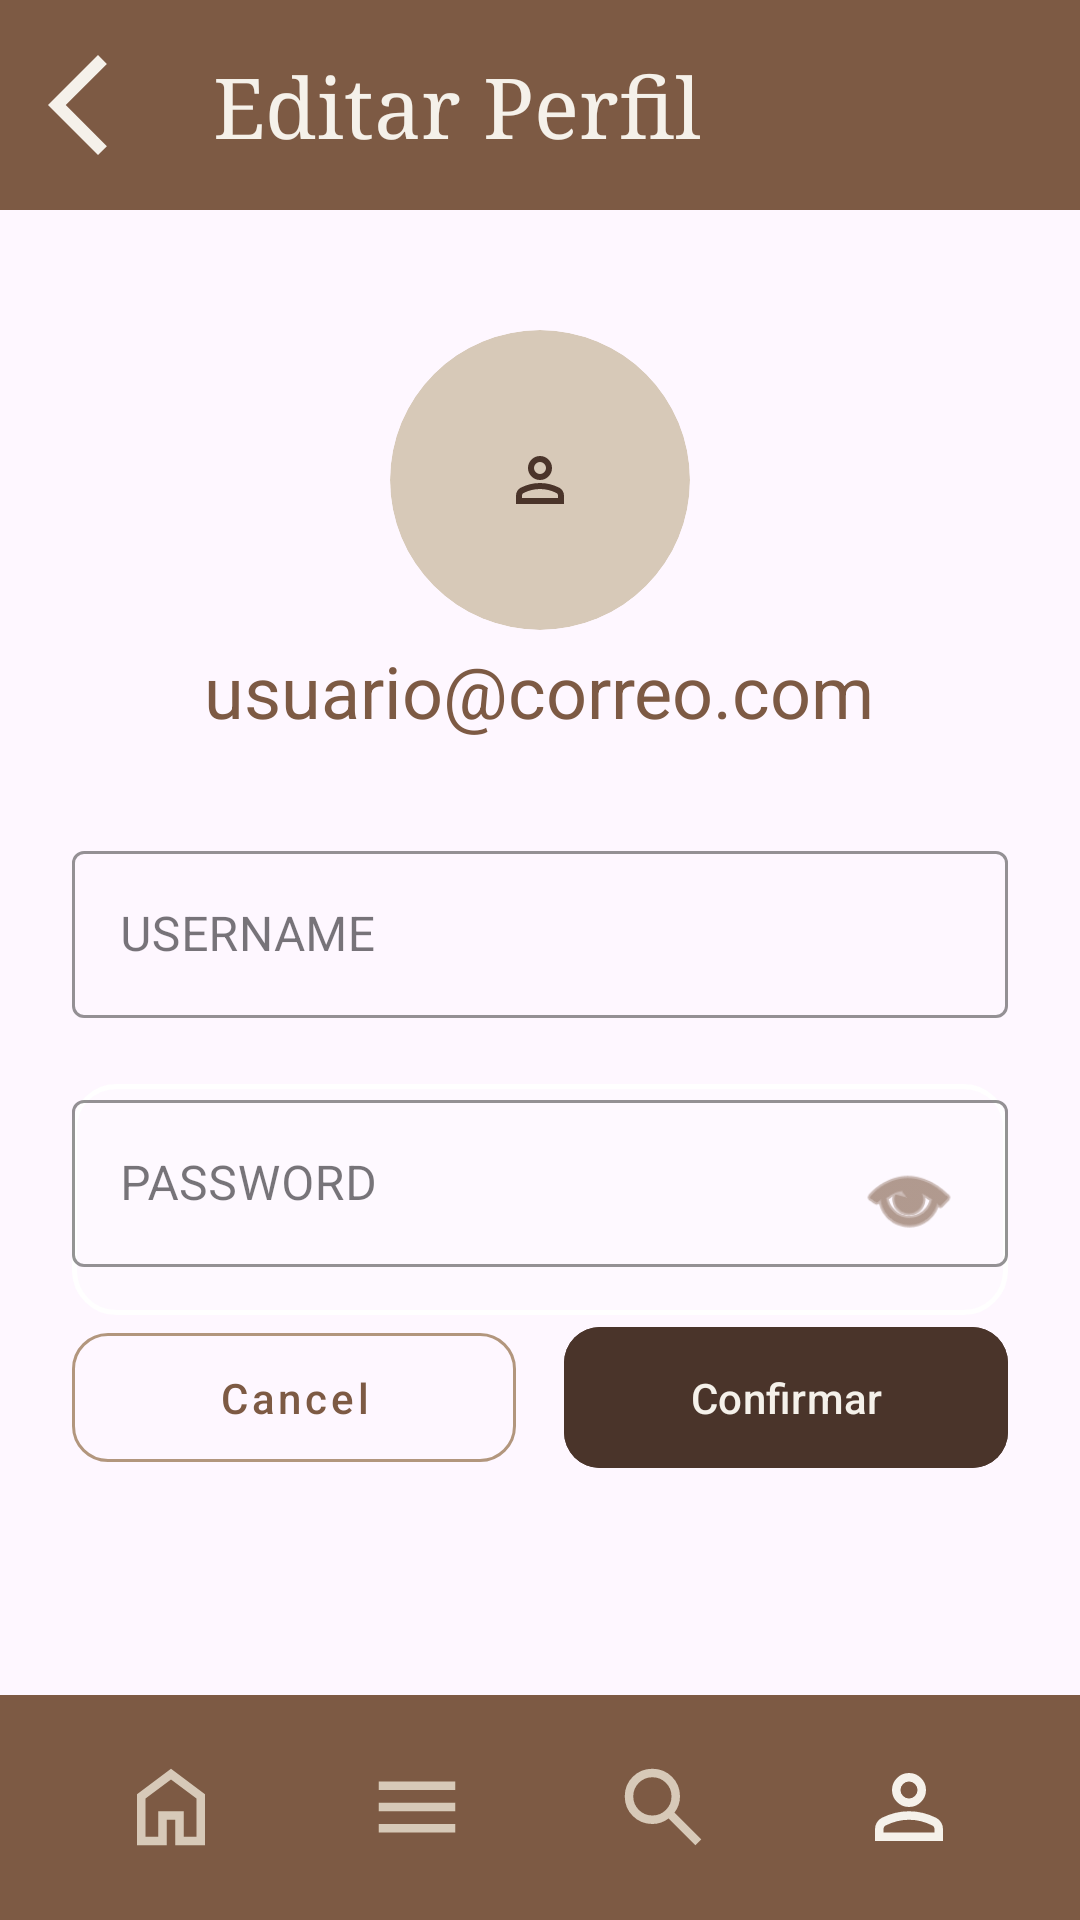

Screen size 1080*1920. Icon name, then its center in pixels as point (x, y):
flecha left: point (77, 105)
home: point (171, 1807)
lista: point (417, 1807)
lupa: point (662, 1806)
perfil: point (540, 480), point (909, 1807)
view: point (908, 1202)
